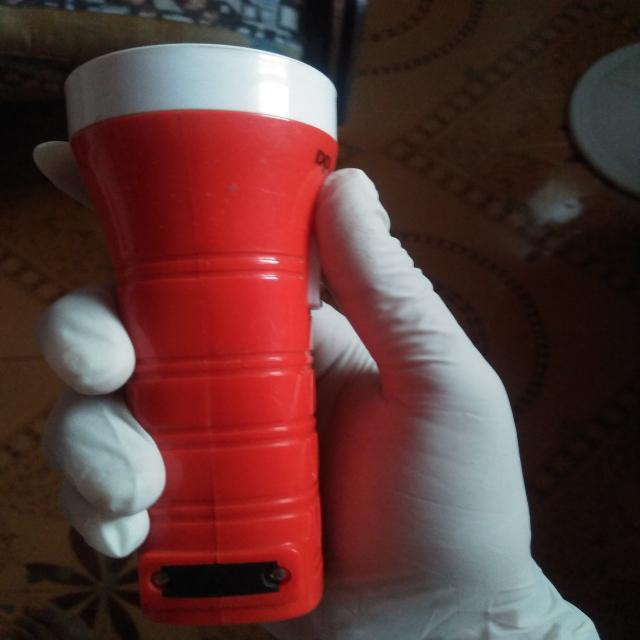glove_hand: (34, 117, 610, 639)
